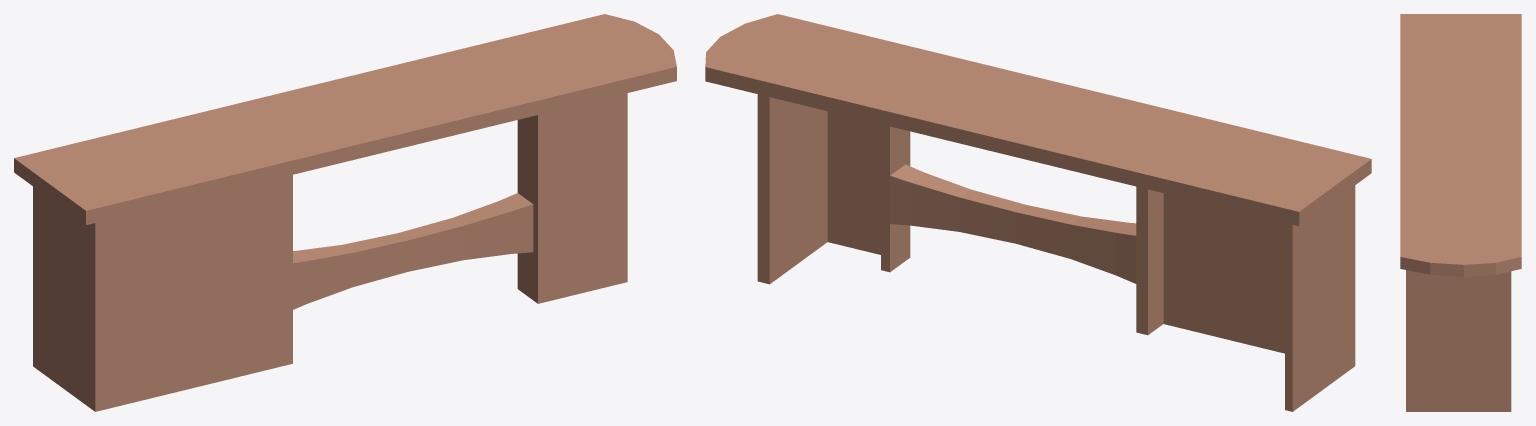
Rendered from masa.fbx.
3 renders of one model, left to right at view 1: azimuth 30°, elevation 25°; view 2: azimuth 150°, elevation 25°; view 3: azimuth 270°, elevation 25°, orthographic. The views are drawn at different scales.
Parts seen in each view (by area): view 1: Cube.003; view 2: Cube.003; view 3: Cube.003.
Part boxes in pixels (<box>): Cube.003: <box>14,14,676,411</box>; Cube.003: <box>705,14,1371,411</box>; Cube.003: <box>1400,14,1521,411</box>.
Bounding box in the file's own units: 978 × 316 × 200.
